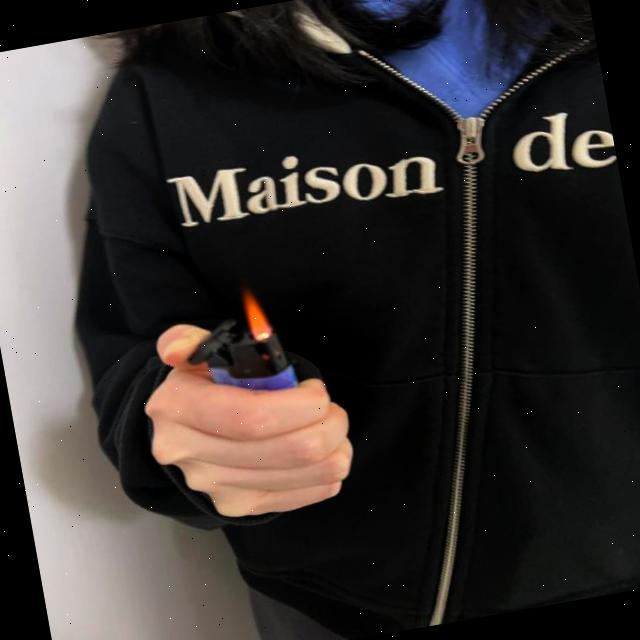fire: (234, 282, 276, 340)
